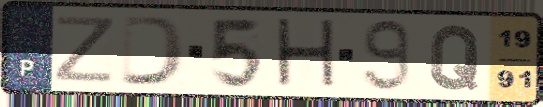5: (207, 16, 267, 91)
9: (358, 17, 414, 95)
D: (117, 13, 190, 88)
H: (273, 15, 341, 93)
Q: (427, 23, 484, 93)
Z: (51, 14, 119, 85)
